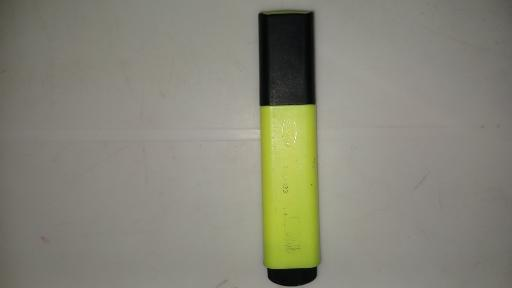Highlighter: (263, 11, 316, 287)
